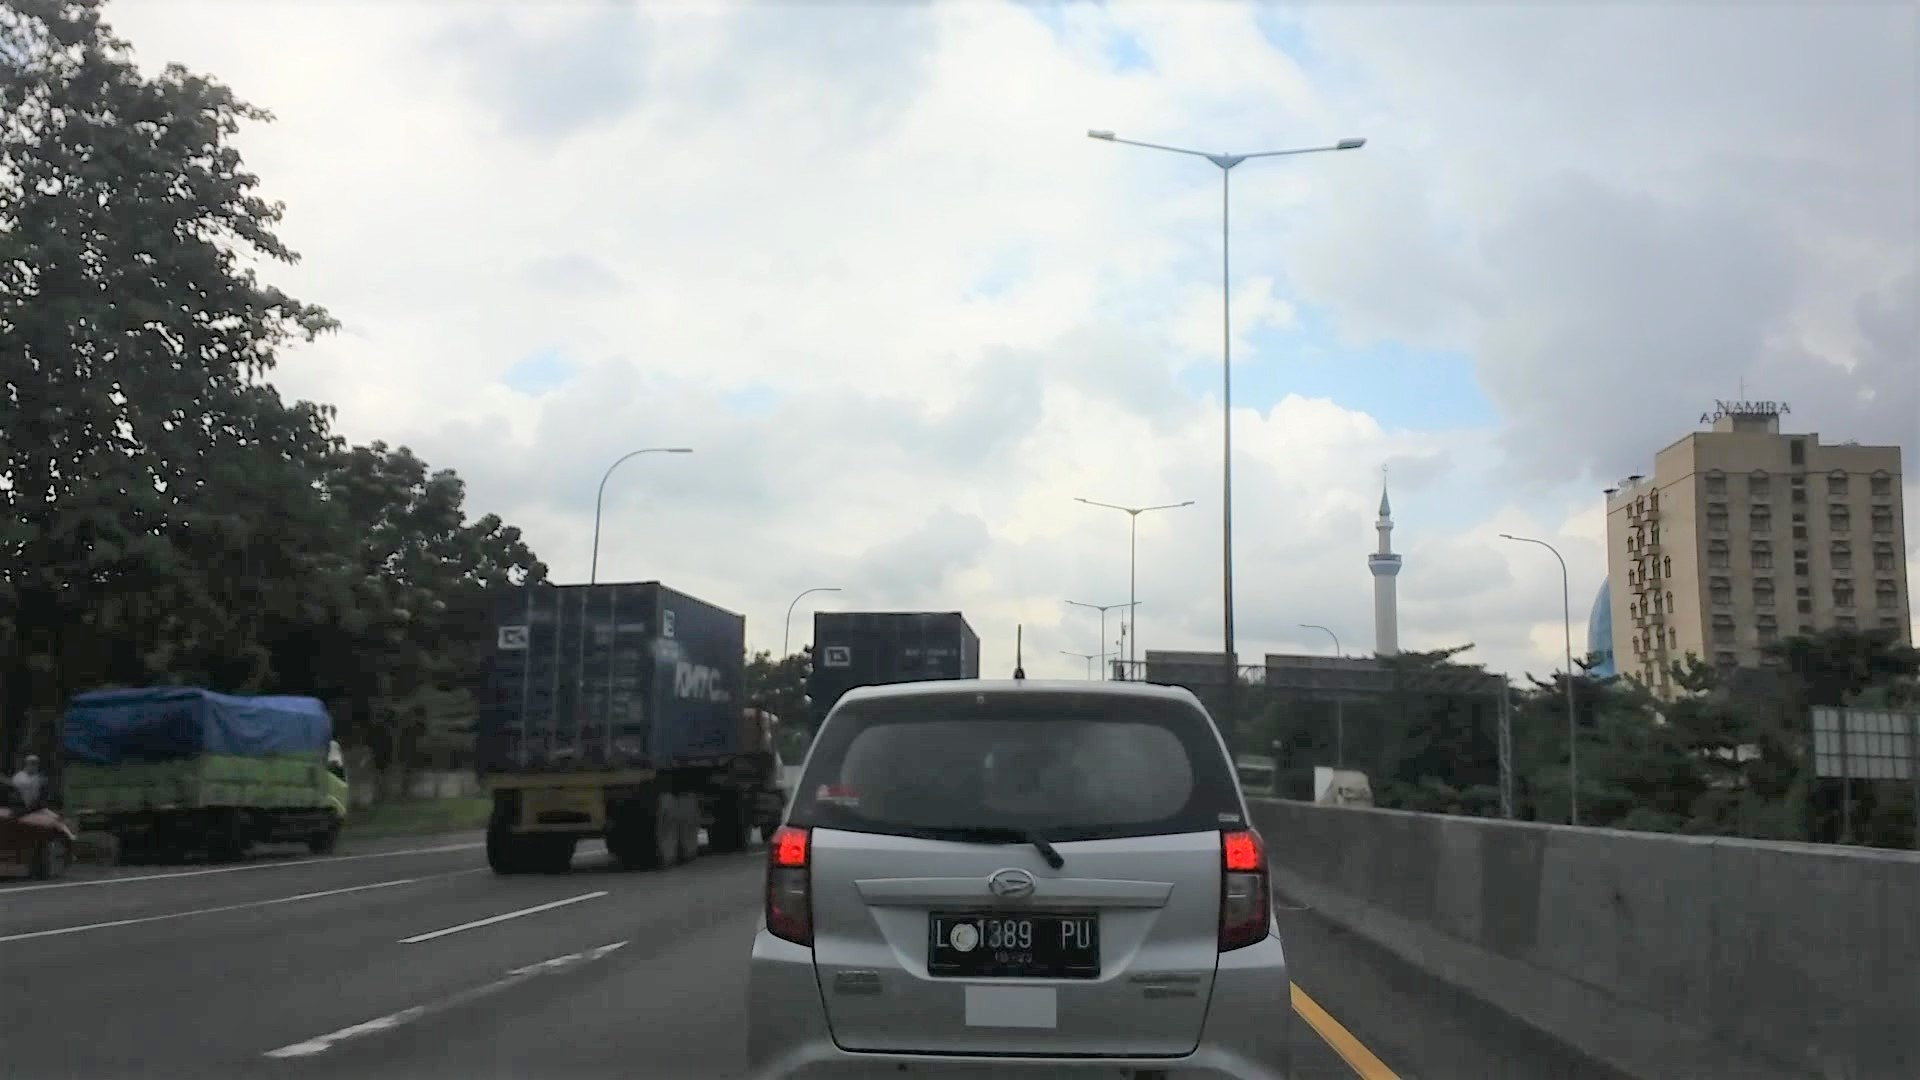plate_positive: (928, 910, 1102, 978)
